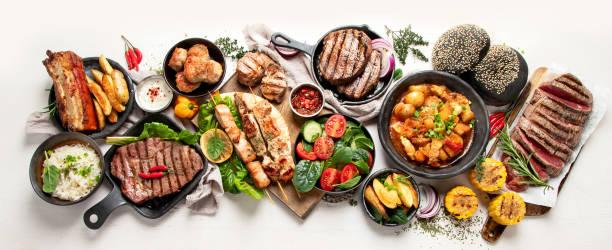Braised Crucian Carp: (485, 63, 607, 214), (81, 114, 208, 228), (377, 70, 490, 181), (50, 56, 134, 139), (293, 111, 373, 197), (313, 28, 393, 106), (28, 130, 105, 206), (162, 37, 226, 99), (361, 167, 421, 227)
